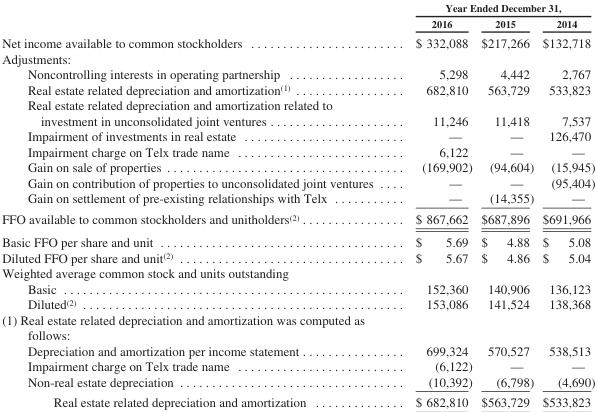table: (1, 1, 594, 409)
table column: (1, 1, 393, 409), (393, 1, 476, 409), (476, 1, 537, 409), (537, 1, 594, 409)
table column header: (1, 1, 594, 32)
table projected row header: (1, 311, 594, 342), (1, 50, 594, 66), (1, 265, 594, 280)
table row: (1, 97, 594, 128), (1, 311, 594, 342), (1, 208, 594, 230), (1, 230, 594, 249), (1, 32, 594, 50), (1, 190, 594, 208), (1, 373, 594, 391), (1, 391, 594, 409), (1, 15, 594, 32), (1, 50, 594, 66), (1, 81, 594, 97), (1, 143, 594, 159), (1, 174, 594, 190), (1, 249, 594, 265), (1, 280, 594, 296), (1, 342, 594, 358), (1, 66, 594, 81), (1, 128, 594, 143), (1, 159, 594, 174), (1, 265, 594, 280), (1, 296, 594, 311), (1, 358, 594, 373), (1, 1, 594, 15)
table spanning cell: (393, 1, 594, 15)
